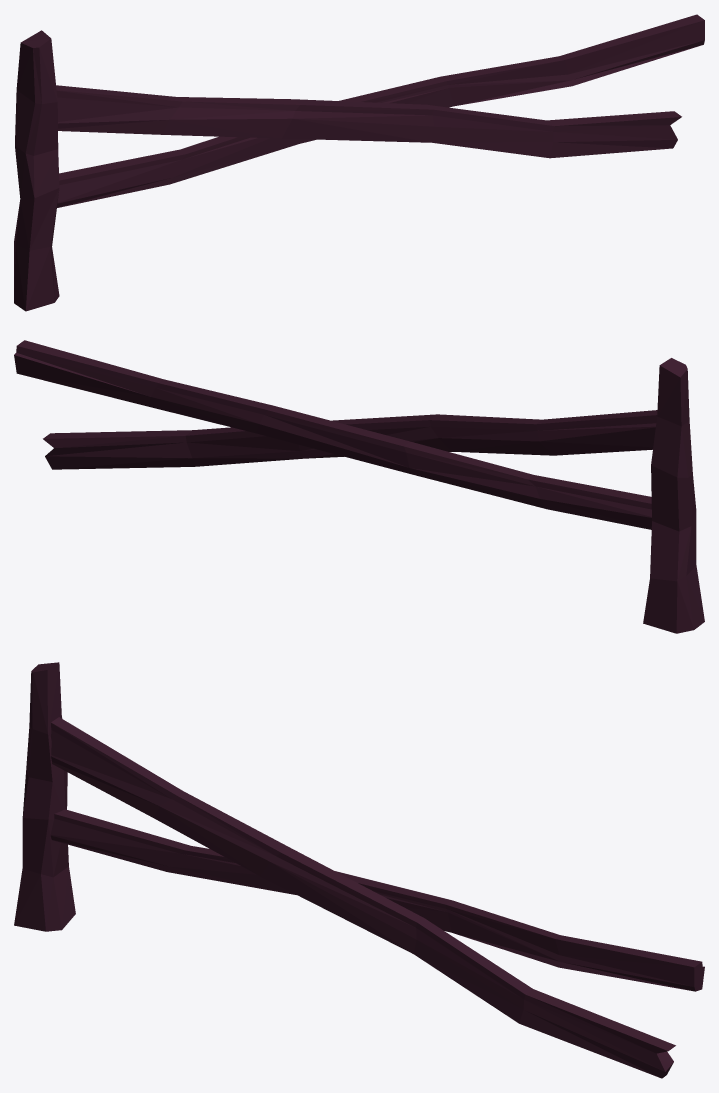
File: Fence02.FBX
The picture shows the model from 3 angles, top to bottom: view 1: azimuth 30°, elevation 25°; view 2: azimuth 150°, elevation 25°; view 3: azimuth 330°, elevation 25°; orthographic projection.
Parts seen in each view (by area): view 1: Fence01_Wedge03, Fence01_Wedge004, Fence01_Pole001; view 2: Fence01_Wedge004, Fence01_Wedge03, Fence01_Pole001; view 3: Fence01_Wedge03, Fence01_Wedge004, Fence01_Pole001.
Part boxes in pixels (x1,y1,x2,y2): Fence01_Wedge03: (56, 85, 681, 158); Fence01_Wedge004: (57, 14, 704, 207); Fence01_Pole001: (14, 30, 59, 311); Fence01_Wedge004: (14, 340, 651, 529); Fence01_Wedge03: (43, 410, 657, 469); Fence01_Pole001: (643, 358, 704, 633); Fence01_Wedge03: (51, 717, 675, 1078); Fence01_Wedge004: (50, 809, 704, 991); Fence01_Pole001: (14, 662, 75, 931).
Bounding box in the file's own units: 4.09 × 1.5 × 0.3017.
1 material, 1 textured.
